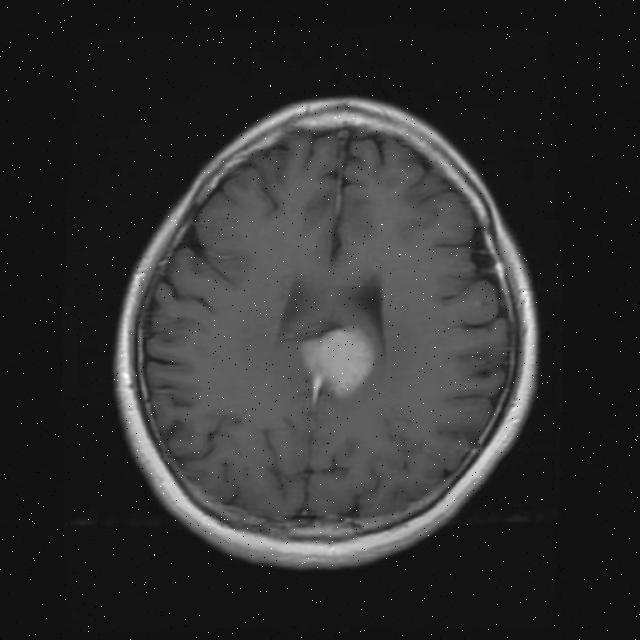Meningioma: (295, 324, 378, 405)
